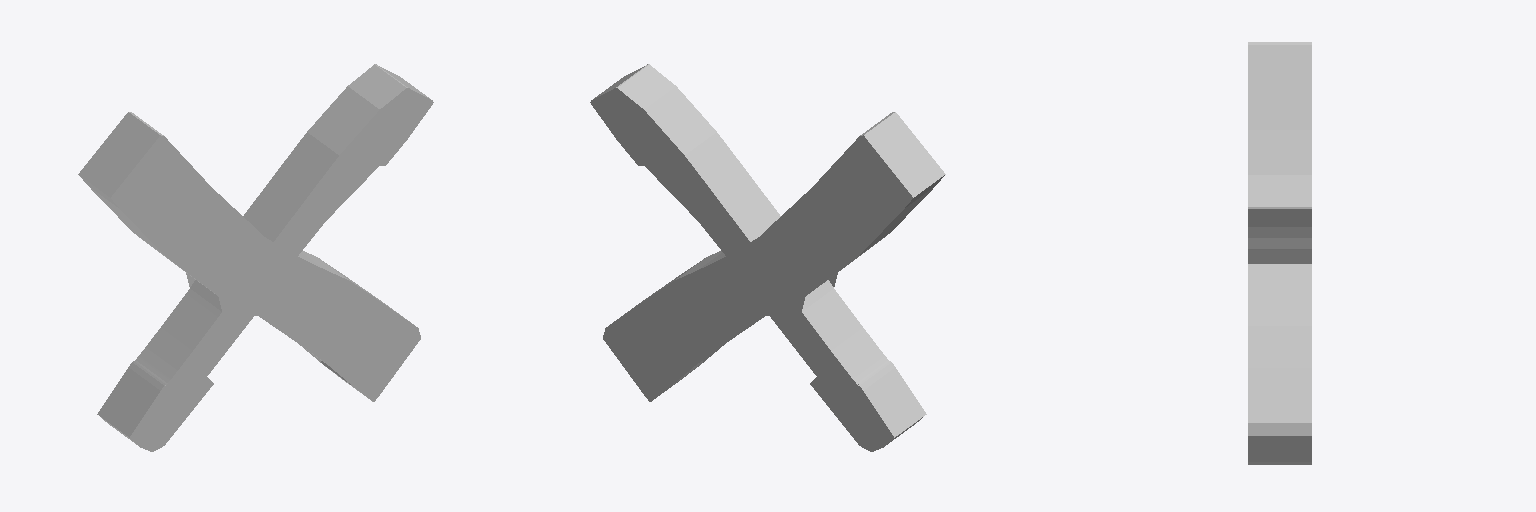
The picture shows the model from 3 angles: view 1: azimuth 30°, elevation 25°; view 2: azimuth 150°, elevation 25°; view 3: azimuth 270°, elevation 25°; orthographic projection.
Parts seen in each view (by area): view 1: planarTrimmedSurface1; view 2: planarTrimmedSurface1; view 3: planarTrimmedSurface1.
Boxes of the visible parts, <box> form: planarTrimmedSurface1: <box>78,64,433,451</box>; planarTrimmedSurface1: <box>590,64,945,451</box>; planarTrimmedSurface1: <box>1248,42,1311,464</box>.
Bounding box in the file's own units: 13.03 × 12.3 × 2.25.